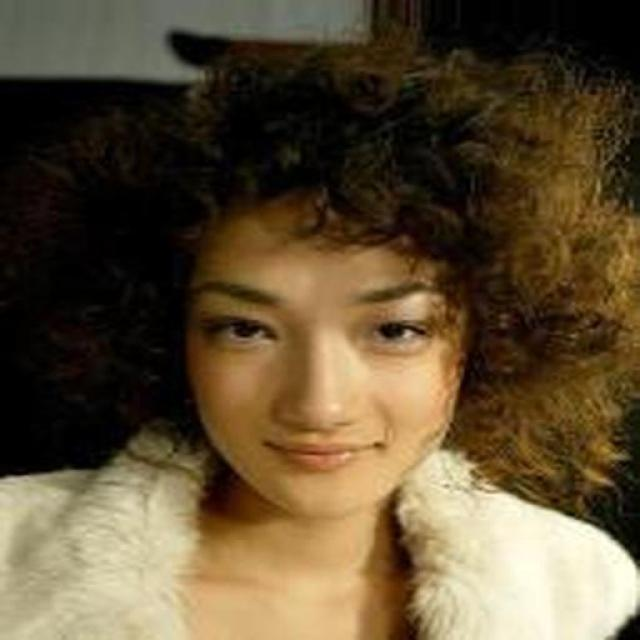bareface: (157, 170, 486, 498)
